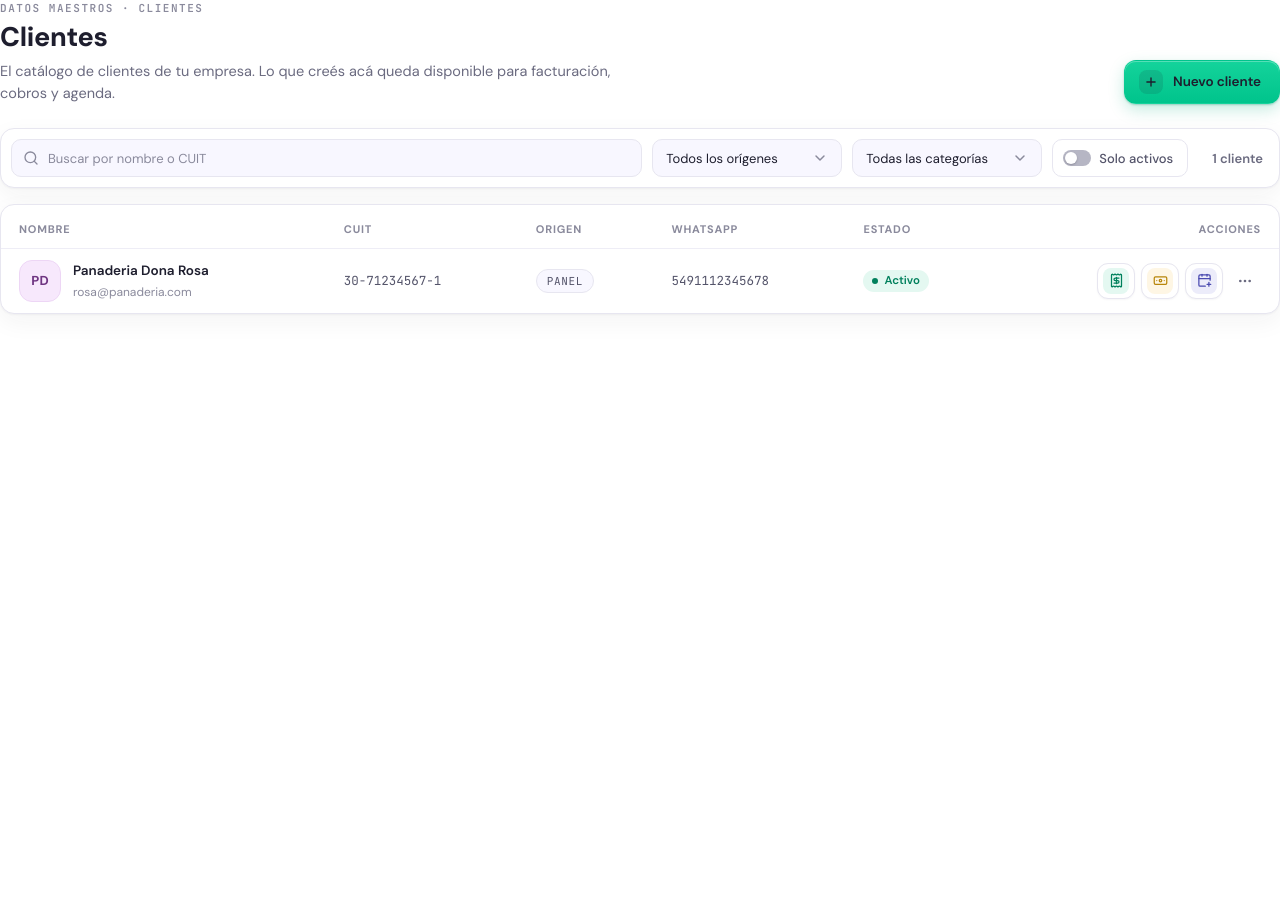
Test: ListadoDeClientes › «ver el duplicado» cierra el formulario y deja al existente en la tabla
This screenshot has width=1280, height=900.
Click the button "Nuevo cliente": (1202, 82) 1124,60 -> 1279,104
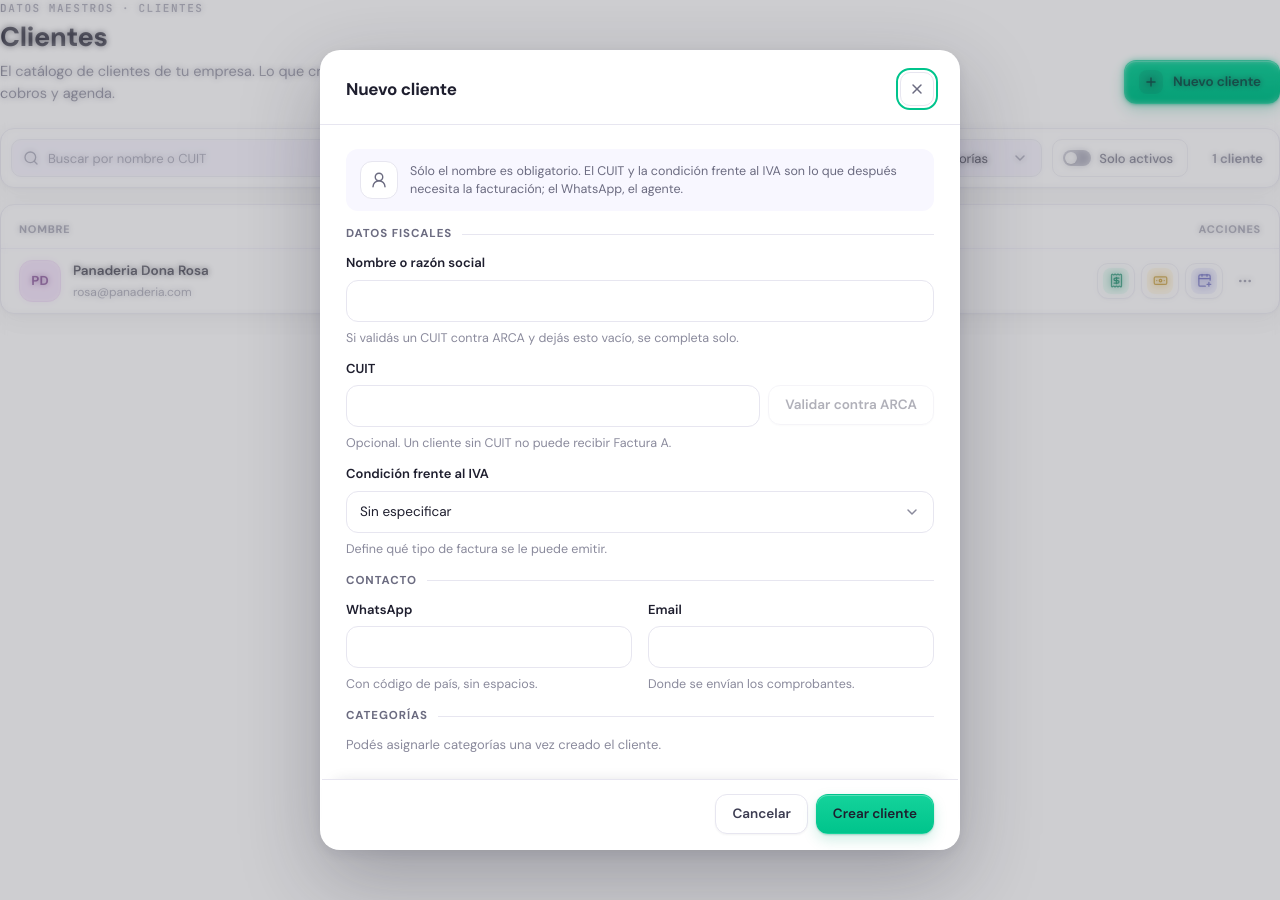
In the field labelled "Nombre o razón social": (640, 301) 346,280 -> 934,322, type "Rosa otra vez"
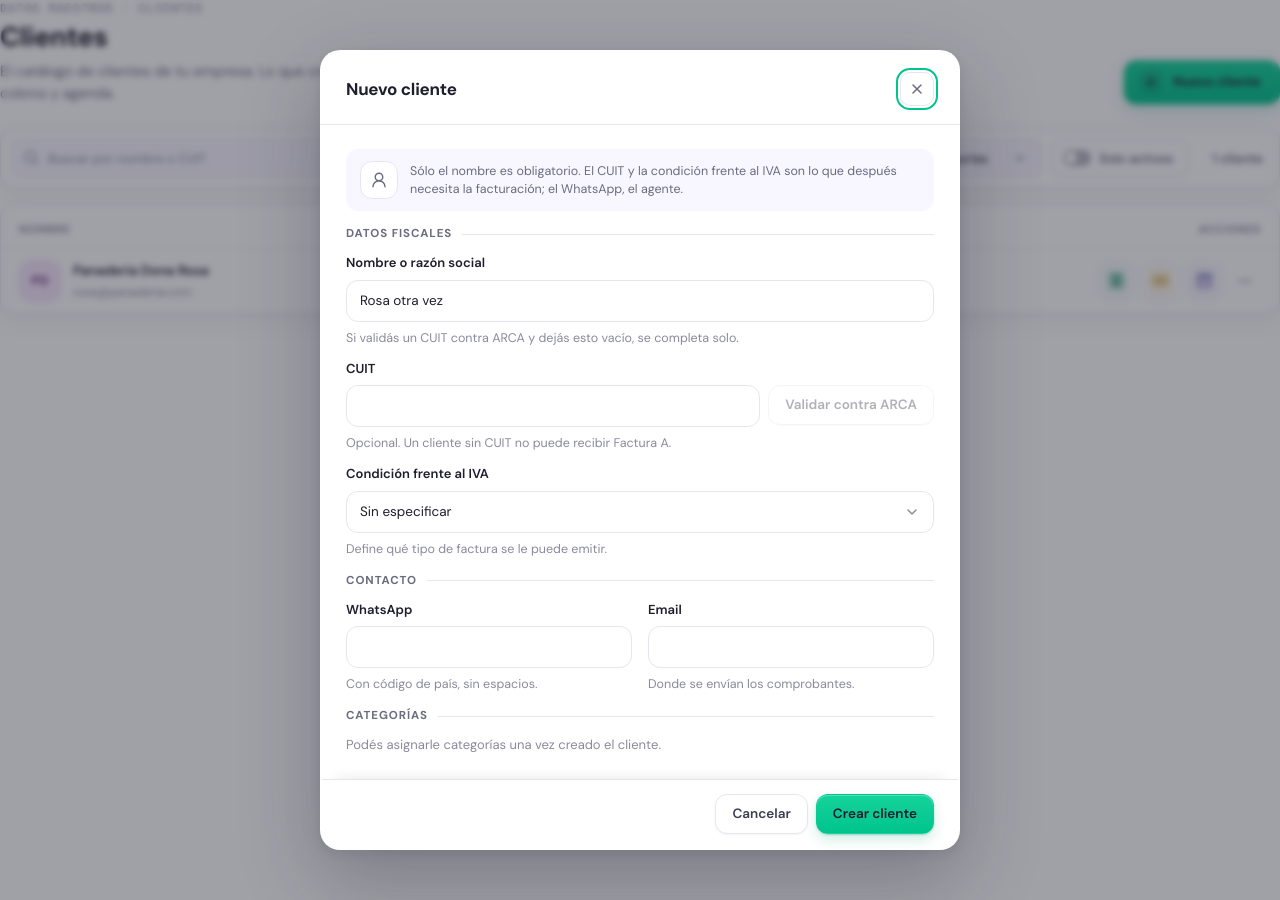
Click the button "Crear cliente": (875, 814) 816,794 -> 934,834
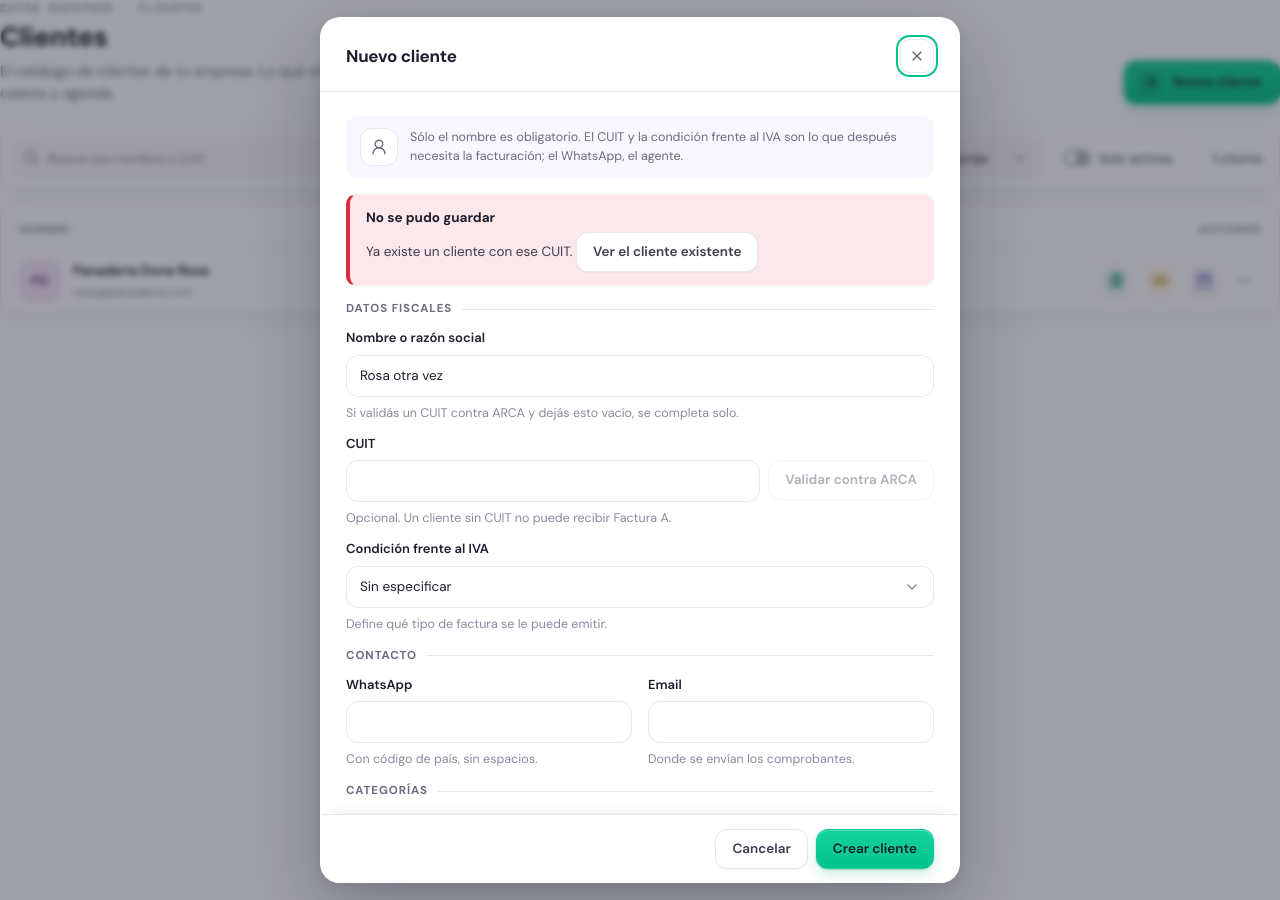
Check: the button "Ver el cliente existente" is shown
Click the button "Ver el cliente existente": (667, 252) 576,232 -> 758,272
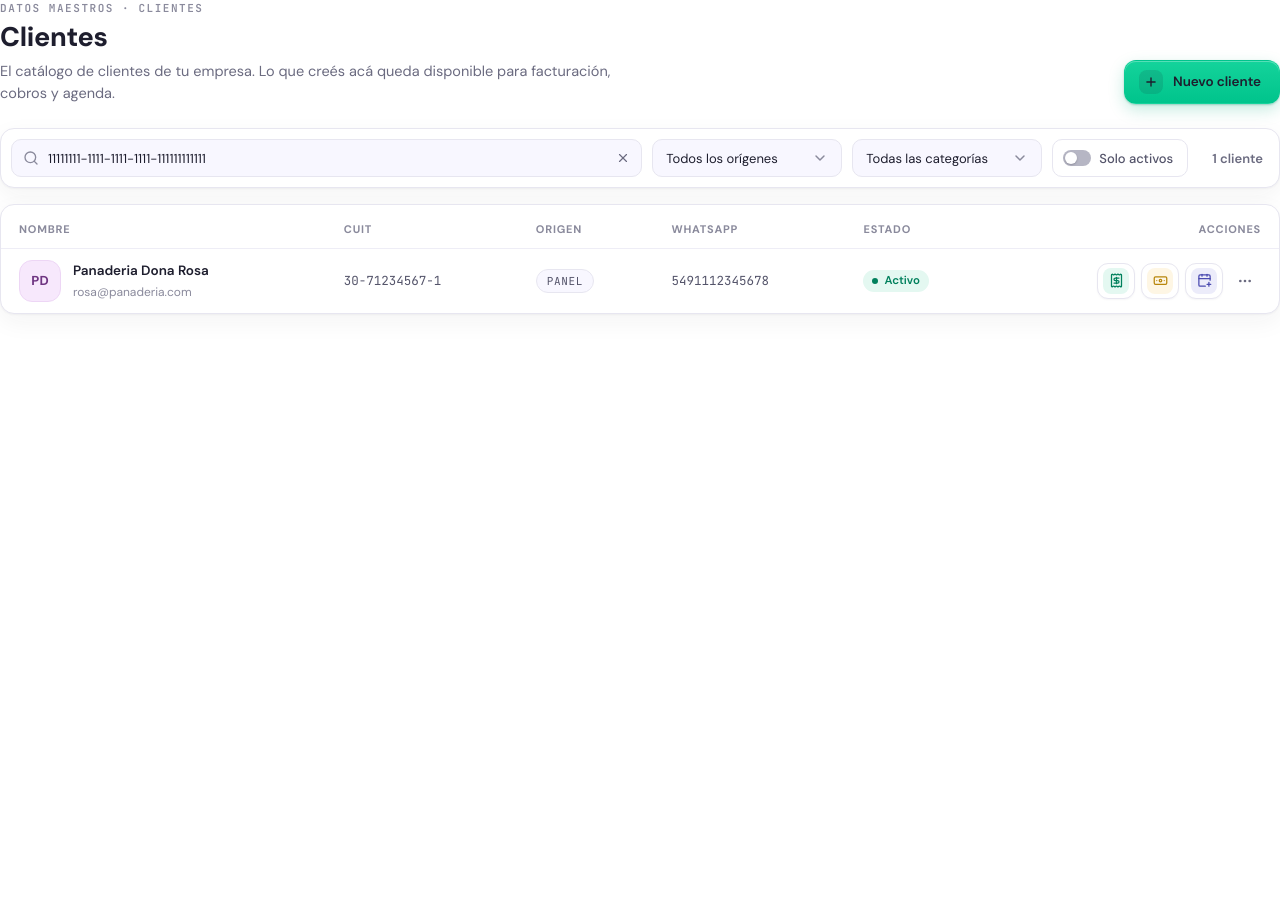
Check: the text "1 cliente" is shown, box 1212,150 -> 1263,167
Check: the button "Crear cliente" is gone
